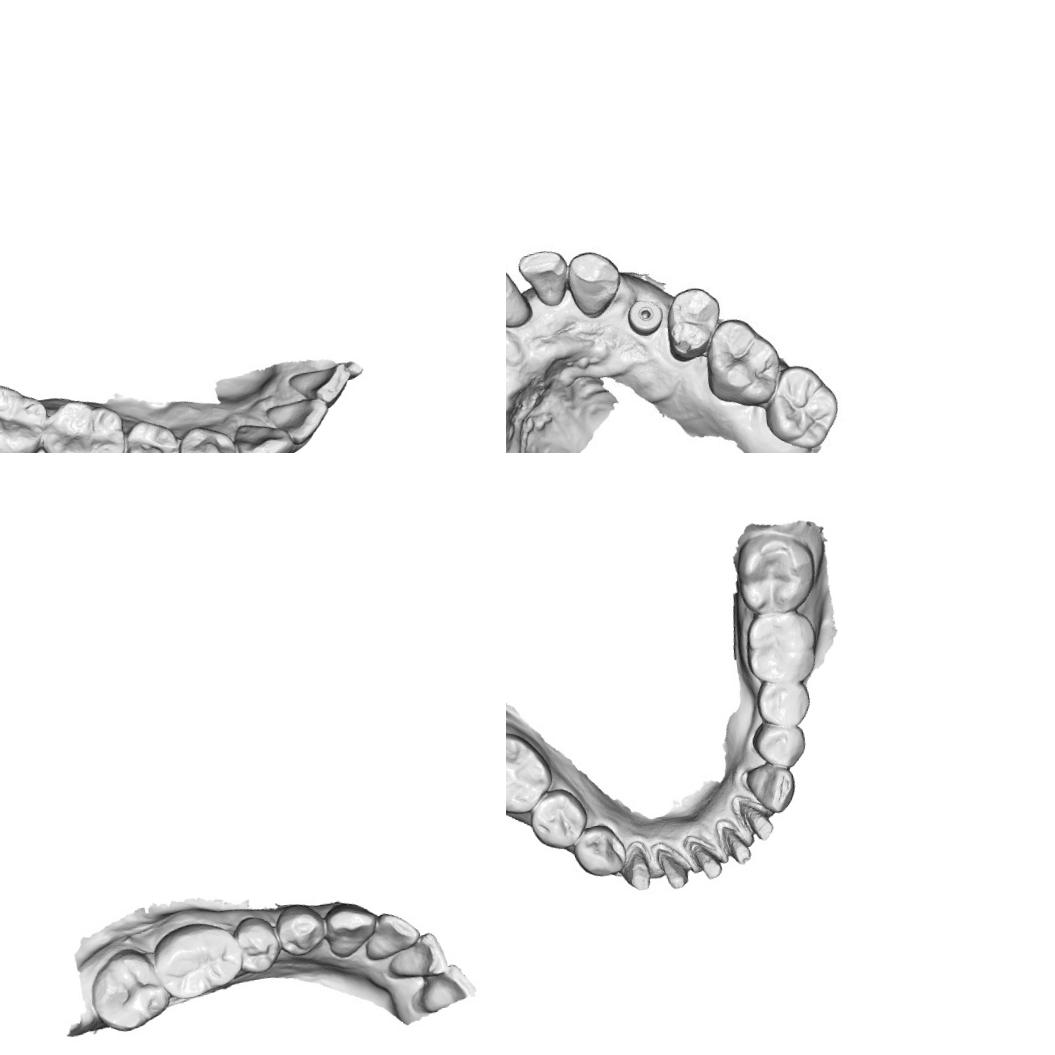canine: (559, 244, 627, 324), (320, 901, 382, 959), (742, 758, 800, 816), (232, 416, 295, 453)
crown: (649, 837, 696, 893), (730, 791, 776, 845), (614, 838, 656, 896), (685, 830, 730, 882), (714, 815, 754, 869)
implant: (622, 291, 667, 340)
incisor: (514, 246, 572, 313), (384, 927, 450, 984), (283, 361, 356, 411), (414, 960, 478, 1016), (265, 393, 330, 447), (359, 908, 420, 965), (506, 258, 533, 341)
molar: (696, 311, 787, 413), (84, 943, 175, 1035), (757, 359, 846, 453), (150, 916, 245, 1004), (730, 526, 820, 617), (740, 606, 822, 688), (37, 392, 134, 453), (506, 725, 559, 821), (0, 378, 56, 453)
premolar: (658, 280, 729, 368), (525, 784, 595, 854), (569, 820, 630, 880), (748, 715, 810, 773), (753, 675, 813, 731), (232, 912, 282, 976), (273, 902, 330, 958), (172, 419, 244, 453), (117, 416, 180, 453)
